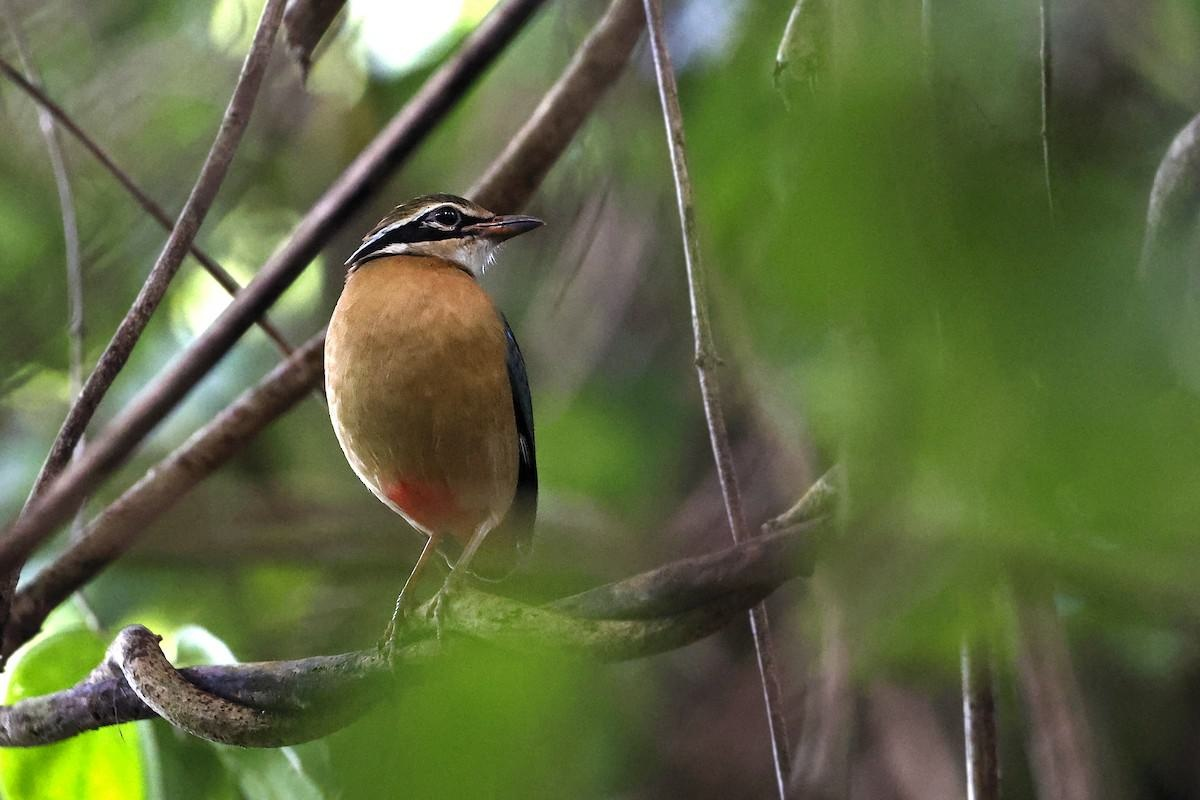pitta: (330, 170, 569, 650)
